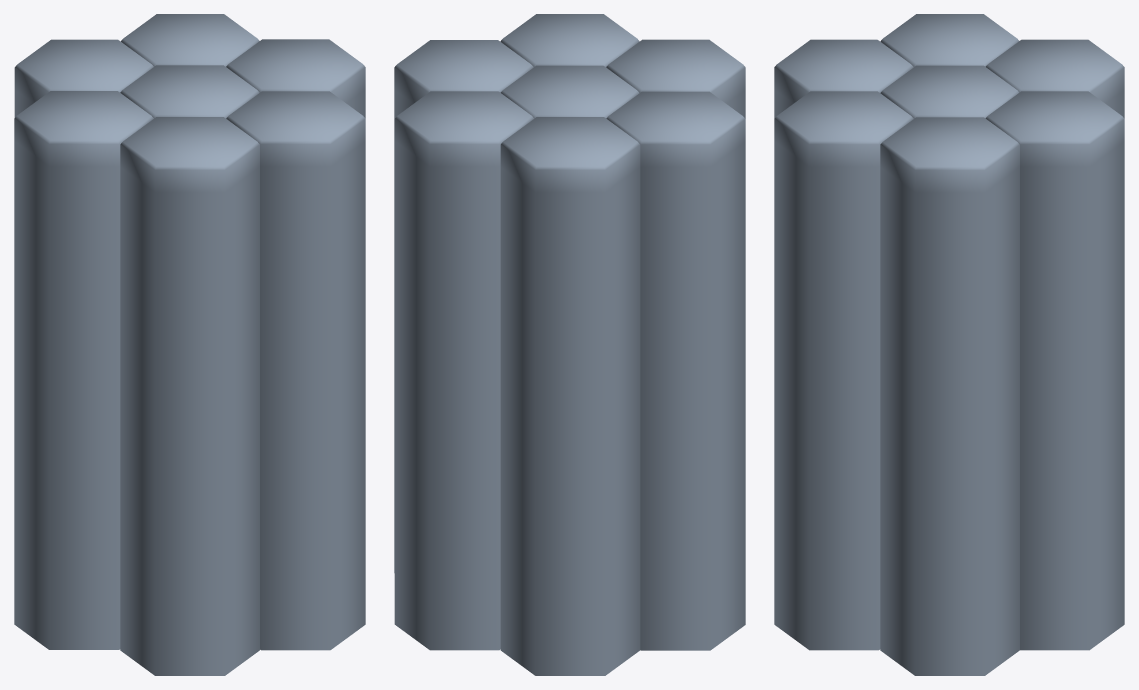
File: HexVariation2.fbx
3 views of the same model, side by side, from view 1: azimuth 30°, elevation 25°; view 2: azimuth 150°, elevation 25°; view 3: azimuth 270°, elevation 25° (orthographic).
Visible parts, largest first — view 1: Cylinder.006, Cylinder.001, Cylinder.002, Cylinder.000, Cylinder.005, Cylinder.003, Cylinder.004; view 2: Cylinder.005, Cylinder.004, Cylinder.001, Cylinder.000, Cylinder.006, Cylinder.002, Cylinder.003; view 3: Cylinder.000, Cylinder.002, Cylinder.004, Cylinder.006, Cylinder.005, Cylinder.003, Cylinder.001.
Boxes of the visible parts, <box> form: Cylinder.006: <box>120,117,259,675</box>; Cylinder.001: <box>14,91,153,649</box>; Cylinder.002: <box>226,91,365,650</box>; Cylinder.000: <box>226,39,365,118</box>; Cylinder.005: <box>14,39,153,117</box>; Cylinder.003: <box>120,65,259,118</box>; Cylinder.004: <box>121,14,259,66</box>; Cylinder.005: <box>500,117,640,675</box>; Cylinder.004: <box>394,91,534,650</box>; Cylinder.001: <box>606,91,745,650</box>; Cylinder.000: <box>394,40,533,572</box>; Cylinder.006: <box>606,39,745,118</box>; Cylinder.002: <box>500,14,639,66</box>; Cylinder.003: <box>500,65,639,118</box>; Cylinder.000: <box>880,117,1019,675</box>; Cylinder.002: <box>774,91,913,650</box>; Cylinder.004: <box>985,91,1124,650</box>; Cylinder.006: <box>774,39,913,118</box>; Cylinder.005: <box>985,39,1124,118</box>; Cylinder.003: <box>880,65,1019,118</box>; Cylinder.001: <box>880,14,1018,66</box>.
Bounding box in the file's own units: 520 × 800 × 499.
